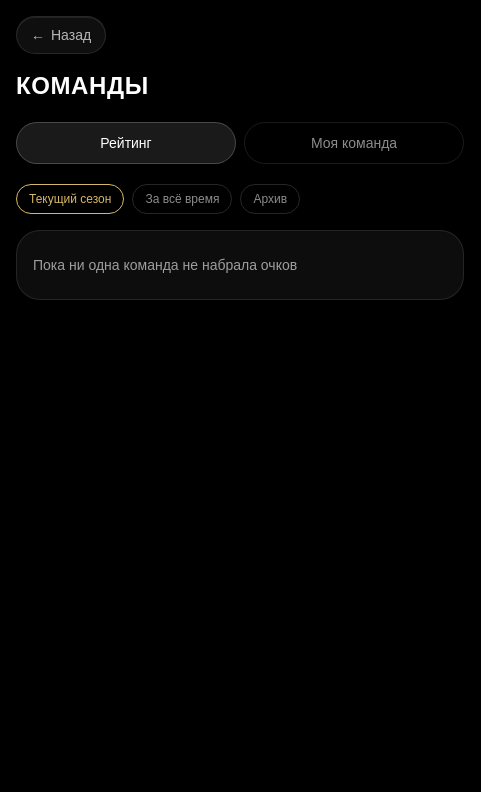
Teams -- Моя команда tab, has a team › captain team-photo editing inside 'Изменить команду' › 1. shows 'Фото команды' inside the edit panel
This screenshot has width=481, height=792.
Step 1. Click the button "Моя команда" → coordinates (354, 143), box [244,122,464,164]
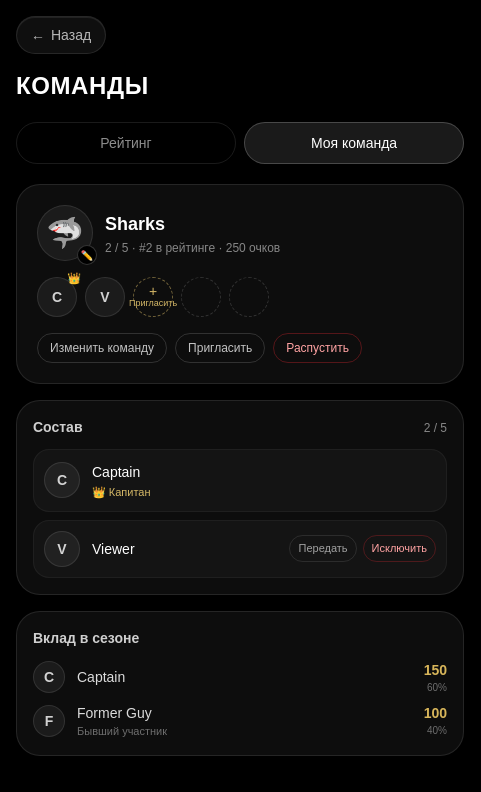
Step 2. Click the button "Изменить команду" → coordinates (102, 348), box [37,333,167,363]
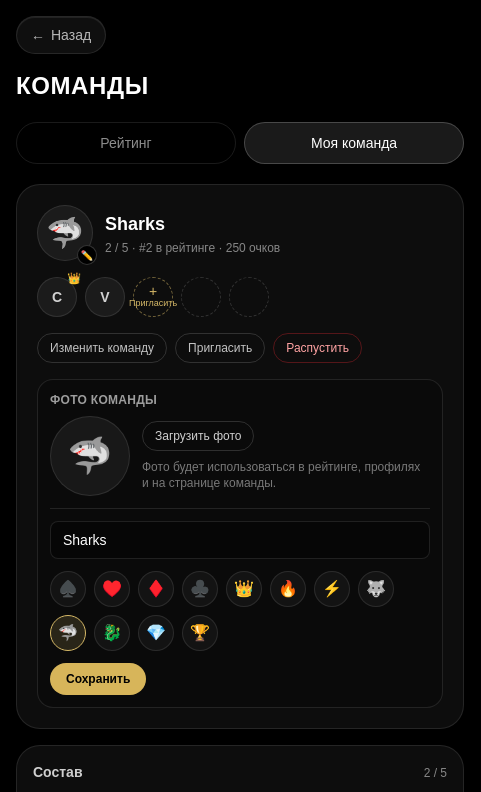
Now the text "Фото команды" is shown, box [50,393,157,407]
Now the text "Фото будет использоваться в рейтинге, профилях и на странице команды." is shown, box [142,459,430,491]
